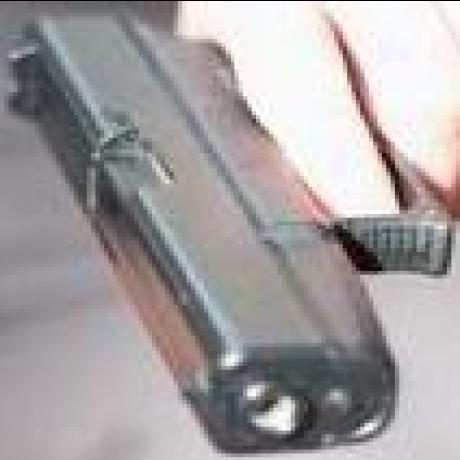weapon: (0, 7, 451, 460)
